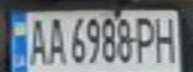6: (66, 13, 87, 64)
8: (115, 13, 136, 64), (100, 15, 118, 64)
9: (81, 13, 103, 64)
A: (24, 15, 51, 66), (42, 14, 69, 65)
H: (151, 12, 181, 64)
P: (133, 12, 160, 64)
